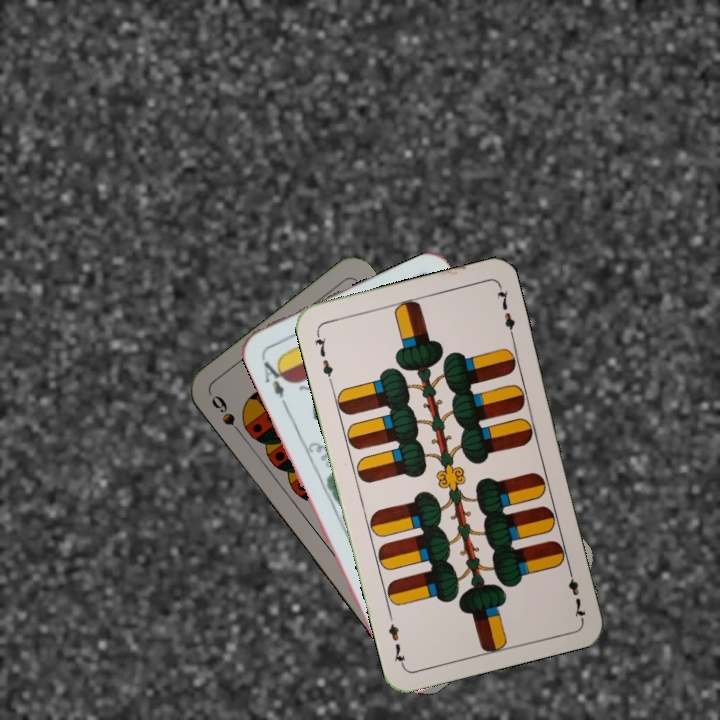E7: (310, 328, 336, 386), (564, 563, 589, 621)
EA: (256, 352, 290, 408)
S9: (207, 391, 249, 442)
